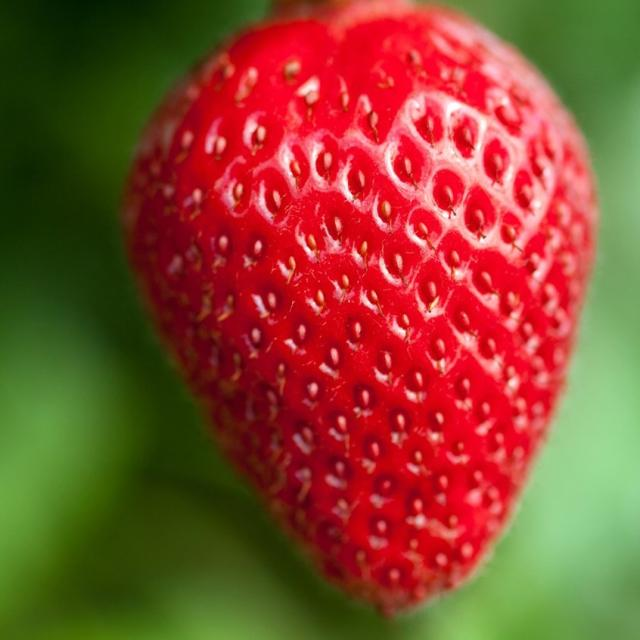strawberry: (110, 0, 610, 607)
